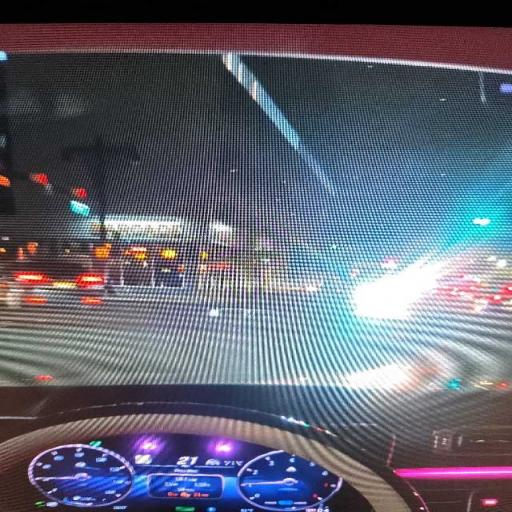lane: (0, 296, 510, 384)
